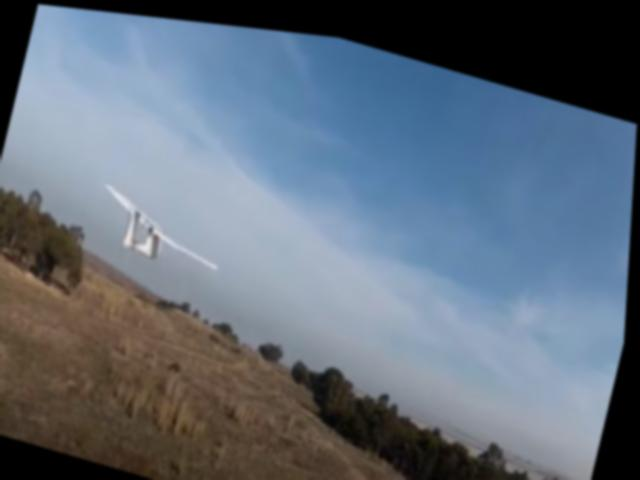uav: (94, 175, 234, 276)
